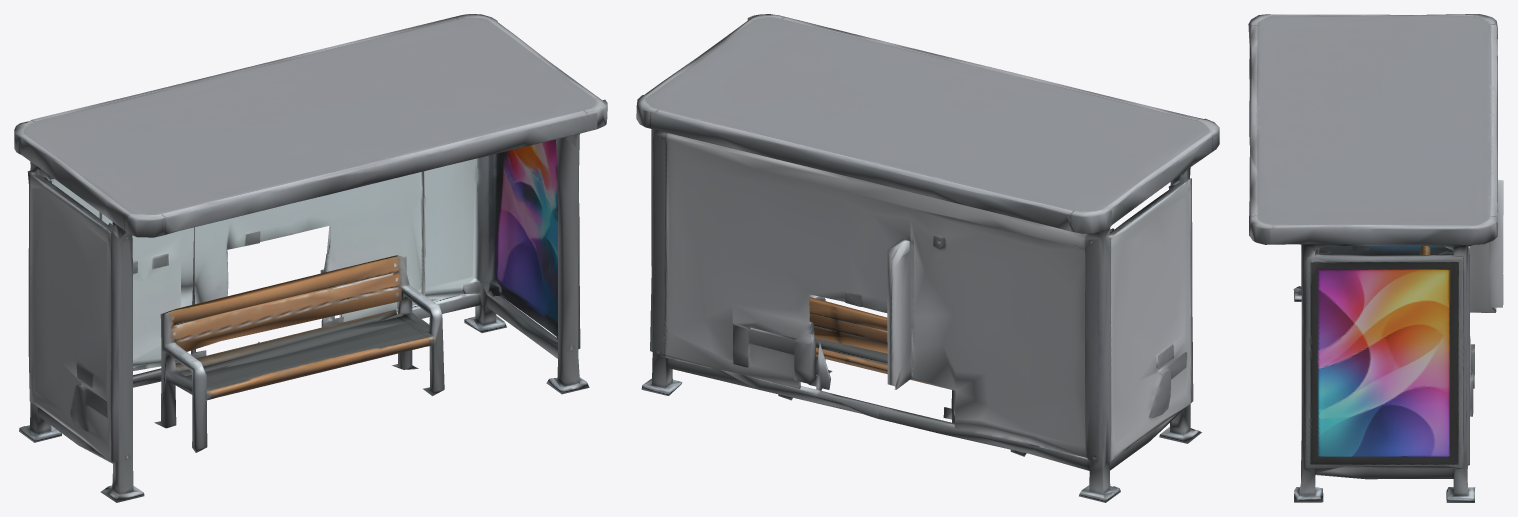
The model's file is bus_stop.glb.
3 renders of one model, left to right at view 1: azimuth 30°, elevation 25°; view 2: azimuth 150°, elevation 25°; view 3: azimuth 270°, elevation 25°, orthographic. The views are drawn at different scales.
Visible parts, largest first — view 1: tripo_node_adf04b15-5197-4815-9e03-bc8838550895; view 2: tripo_node_adf04b15-5197-4815-9e03-bc8838550895; view 3: tripo_node_adf04b15-5197-4815-9e03-bc8838550895.
Part boxes in pixels (bbox=[...]): tripo_node_adf04b15-5197-4815-9e03-bc8838550895: bbox=[14, 14, 607, 502]; tripo_node_adf04b15-5197-4815-9e03-bc8838550895: bbox=[636, 14, 1219, 502]; tripo_node_adf04b15-5197-4815-9e03-bc8838550895: bbox=[1248, 14, 1503, 502].
Size of the model in its own units: 1 by 0.5957 by 0.4992.
1 material, 1 textured.
